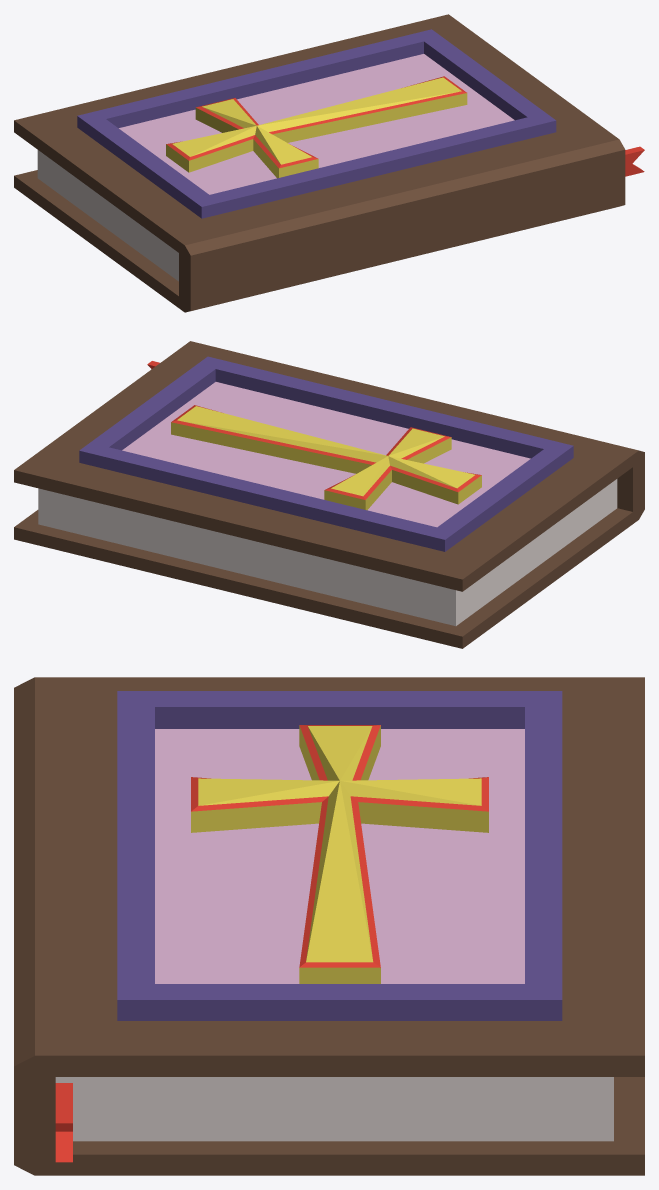
The model's file is coleccionable-bueno3-biblia.fbx.
The picture shows the model from 3 angles, top to bottom: view 1: azimuth 30°, elevation 25°; view 2: azimuth 150°, elevation 25°; view 3: azimuth 270°, elevation 25°; orthographic projection. The views are drawn at different scales.
Visible parts, largest first — view 1: Model; view 2: Model; view 3: Model.
Boxes of the visible parts, x1=… form: Model: x1=14, y1=14, x2=644, y2=312; Model: x1=14, y1=341, x2=644, y2=648; Model: x1=14, y1=677, x2=644, y2=1175.
Bounding box in the file's own units: 24.15 × 4.26 × 15.87.
